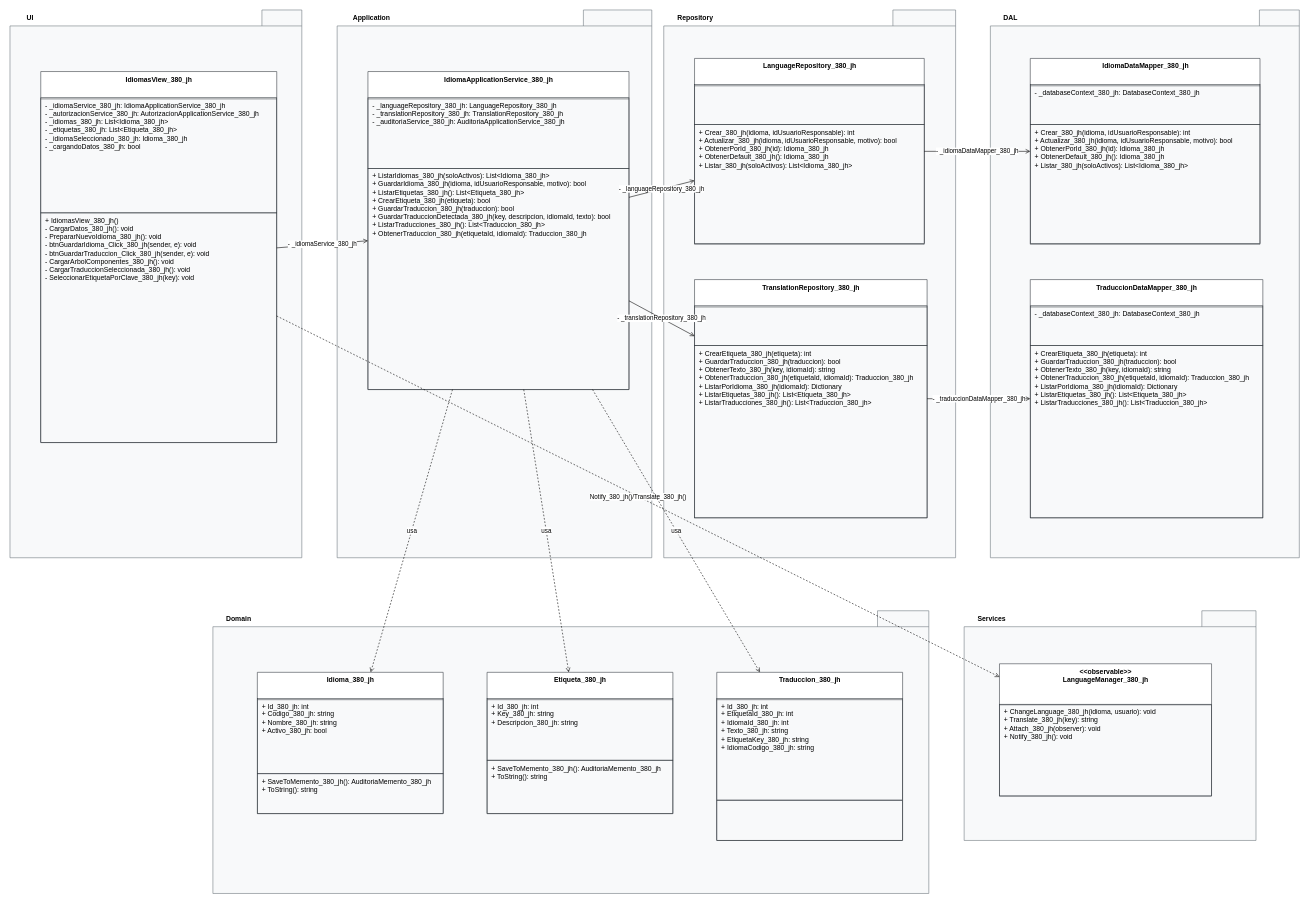
The diagram is 1309 pixels wide and 903 high, and some of its shapes have lost their labels. Each missing label, with the centre of its shape:
+ SaveToMemento_380_jh(): AuditoriaMemento_380_jh: (x=809, y=820)
- _idiomaDataMapper_380_jh: IdiomaDataMapper_380_jh: (x=809, y=104)
- _traduccionDataMapper_380_jh: TraduccionDataMapper_380_jh: (x=810, y=325)
